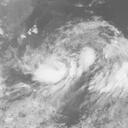cyclone: (31, 54, 68, 83)
